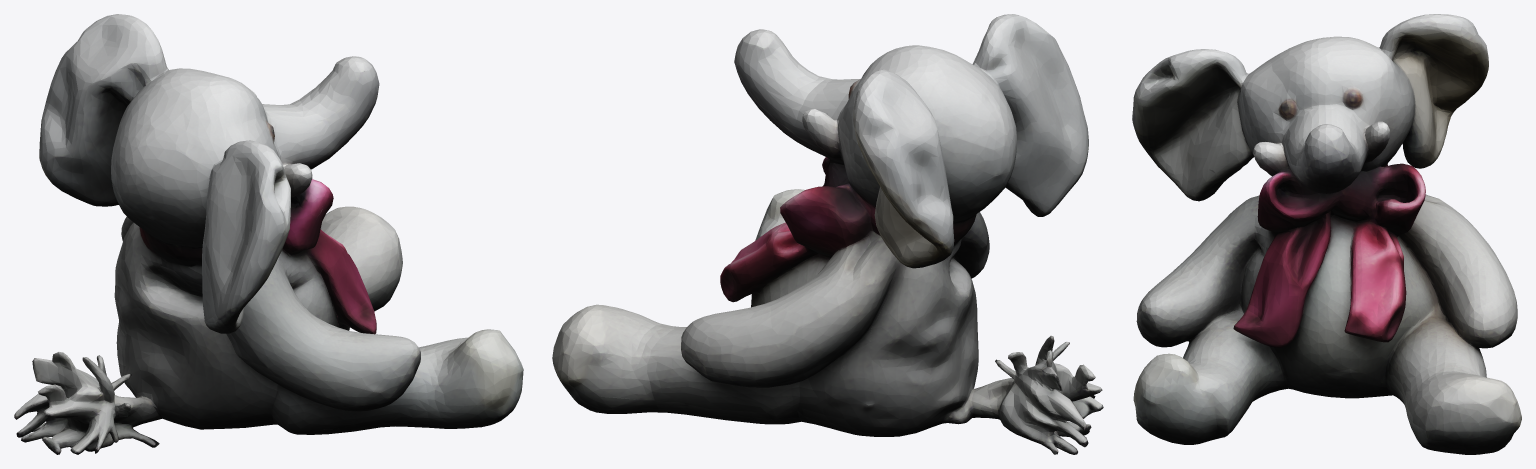
The model's file is original_slat.glb.
3 views of the same model, side by side, from view 1: azimuth 30°, elevation 25°; view 2: azimuth 150°, elevation 25°; view 3: azimuth 270°, elevation 25° (orthographic). The views are drawn at different scales.
Parts seen in each view (by area): view 1: world; view 2: world; view 3: world.
Boxes of the visible parts, bbox=[...] form: world: bbox=[14, 14, 523, 454]; world: bbox=[552, 14, 1103, 454]; world: bbox=[1132, 14, 1521, 454].
Size of the model in its own units: 0.7507 by 0.5823 by 0.6211.
1 material, 1 textured.
